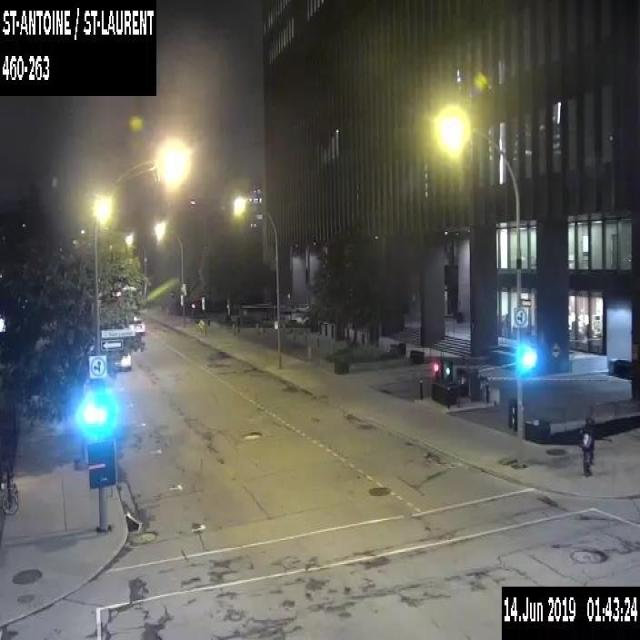pedestrian: (580, 416, 595, 475)
vehicle: (114, 351, 131, 370), (128, 316, 145, 334)
